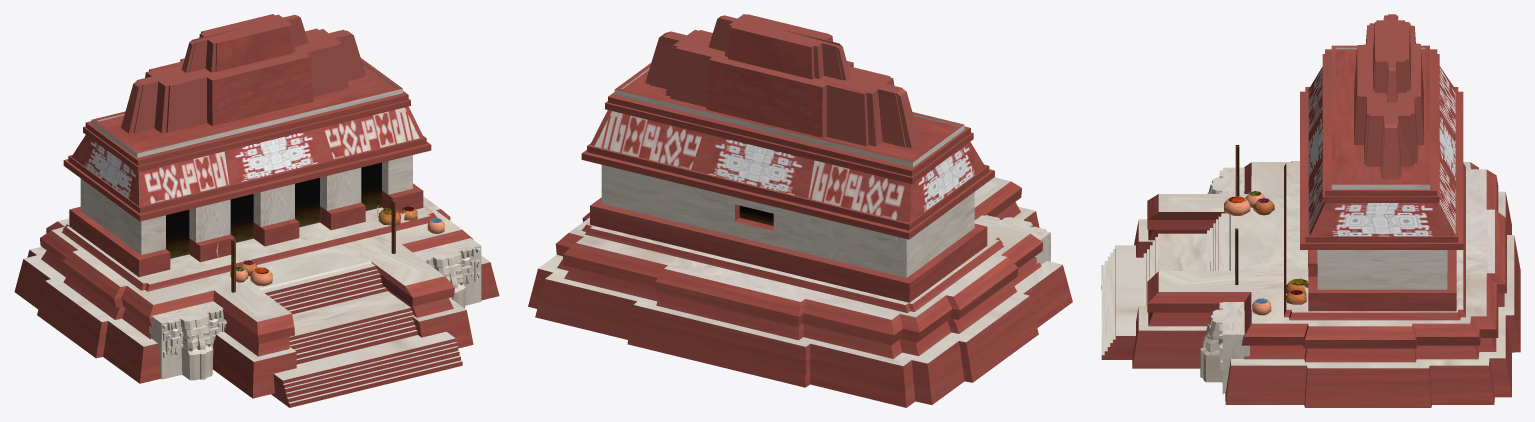
Rendered from civic_center.dae.
The picture shows the model from 3 angles, left to right: view 1: azimuth 30°, elevation 25°; view 2: azimuth 150°, elevation 25°; view 3: azimuth 270°, elevation 25°; orthographic projection. The views are drawn at different scales.
Parts seen in each view (by area): view 1: cc_1; view 2: cc_1; view 3: cc_1.
Boxes of the visible parts, x1,y1,x2,y2 form: cc_1: [14, 14, 499, 407]; cc_1: [528, 14, 1072, 407]; cc_1: [1101, 14, 1520, 407].
Size of the model in its own units: 28 by 25.49 by 18.54.
